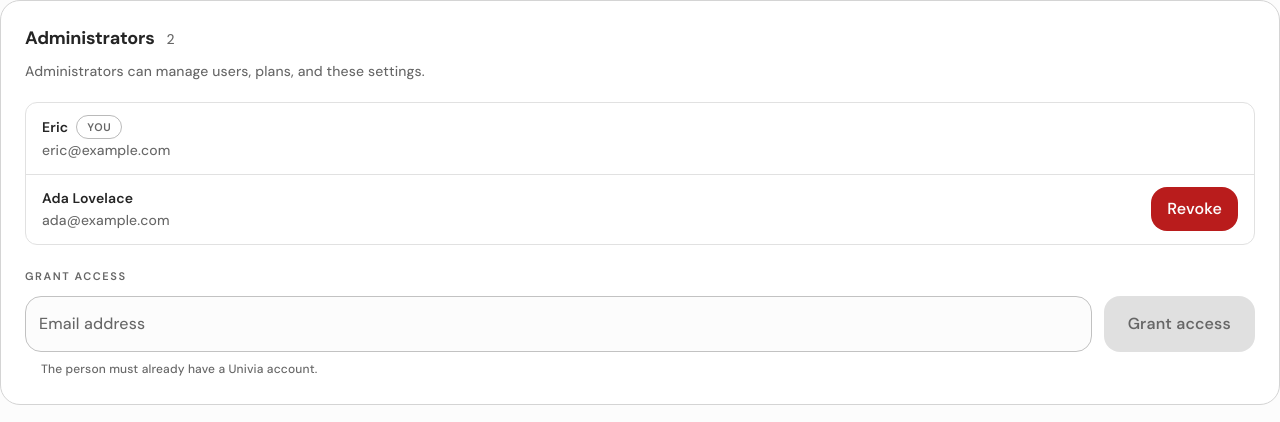
Test: AdminAccessCard › blocks an invalid email and focuses the field
This screenshot has width=1280, height=422.
Type "not-an-email" into the field labelled "Email address" at (558, 324), box [25,296,1092,352]
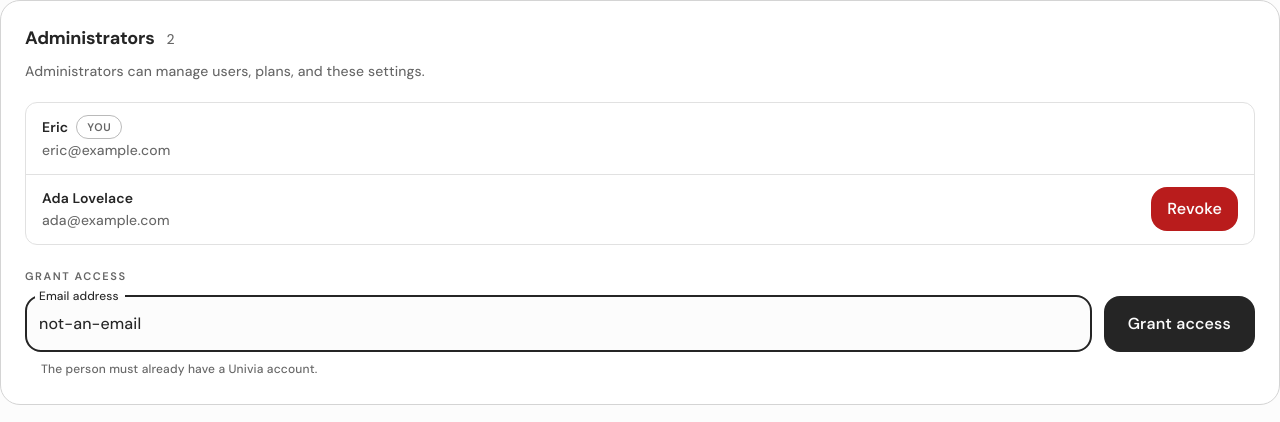
Click the button "Grant access" at (1179, 324), box [1104,296,1255,352]
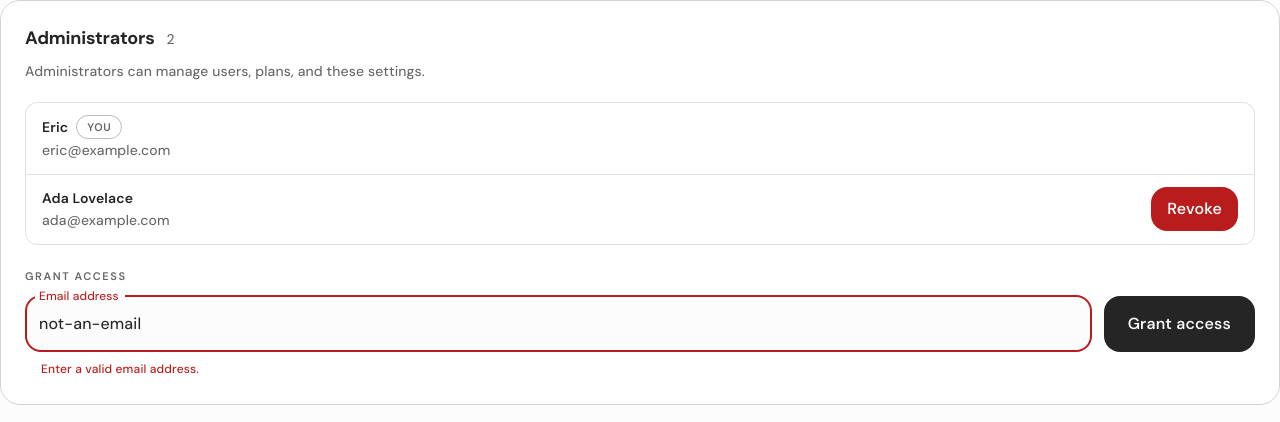
Expected: the text "Enter a valid email address." is shown, [41,361,199,377]
